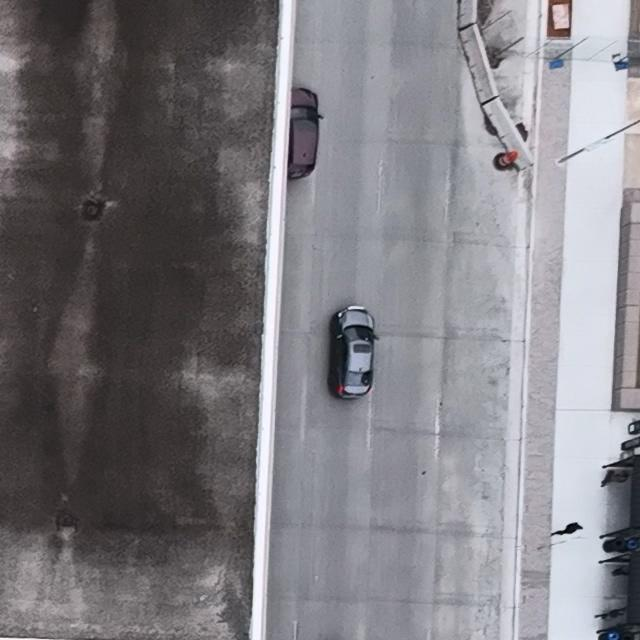car: (328, 306, 379, 400), (287, 86, 325, 178)
